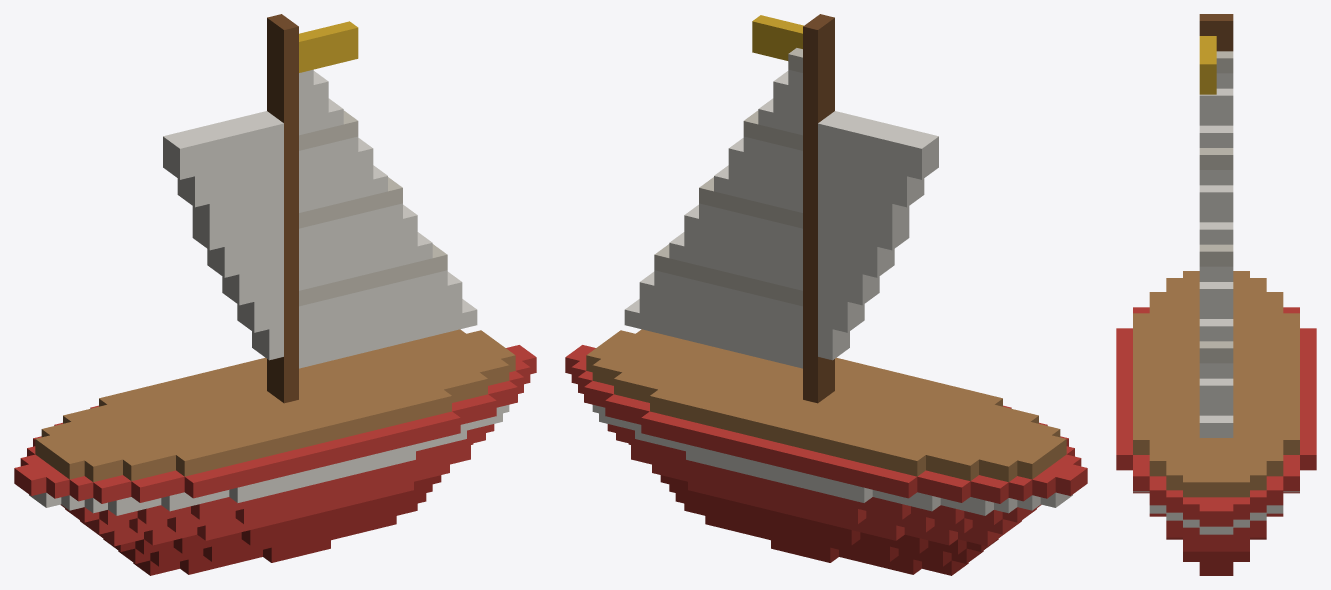
The model's file is sailboat.glb.
3 renders of one model, left to right at view 1: azimuth 30°, elevation 25°; view 2: azimuth 150°, elevation 25°; view 3: azimuth 270°, elevation 25°, orthographic. The views are drawn at different scales.
Parts seen in each view (by area): view 1: prop; view 2: prop; view 3: prop.
Boxes of the visible parts, x1,y1,x2,y2 form: prop: (14,14,536,575); prop: (565,14,1087,575); prop: (1116,14,1316,575).
Size of the model in its own units: 16.48 by 16 by 5.82.
